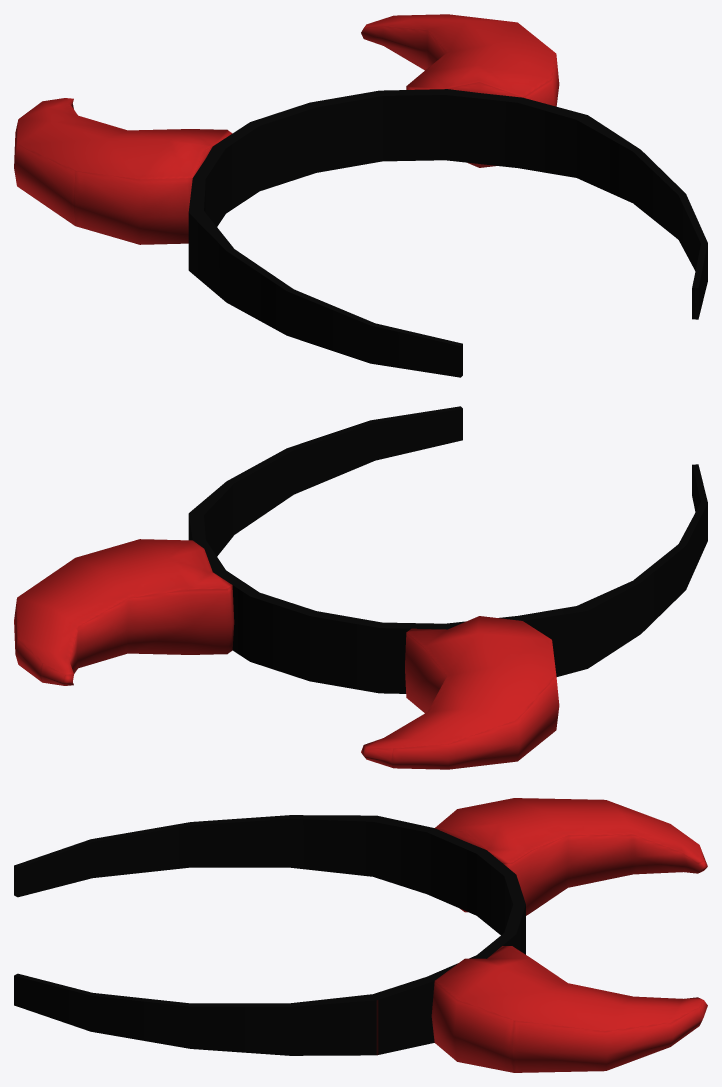
File: HW_devilHeadband.fbx
3 views of the same model, one above another, from view 1: azimuth 30°, elevation 25°; view 2: azimuth 150°, elevation 25°; view 3: azimuth 270°, elevation 25° (orthographic). The views are drawn at different scales.
Parts seen in each view (by area): view 1: HW_devilHeadband; view 2: HW_devilHeadband; view 3: HW_devilHeadband.
Part boxes in pixels (left/top/right/bottom): HW_devilHeadband: left=14, top=14, right=707, bottom=377; HW_devilHeadband: left=14, top=406, right=707, bottom=769; HW_devilHeadband: left=14, top=798, right=707, bottom=1072.
Size of the model in its own units: 0.1897 by 0.0306 by 0.2378.
Materials: 1 (1 with a texture image).
